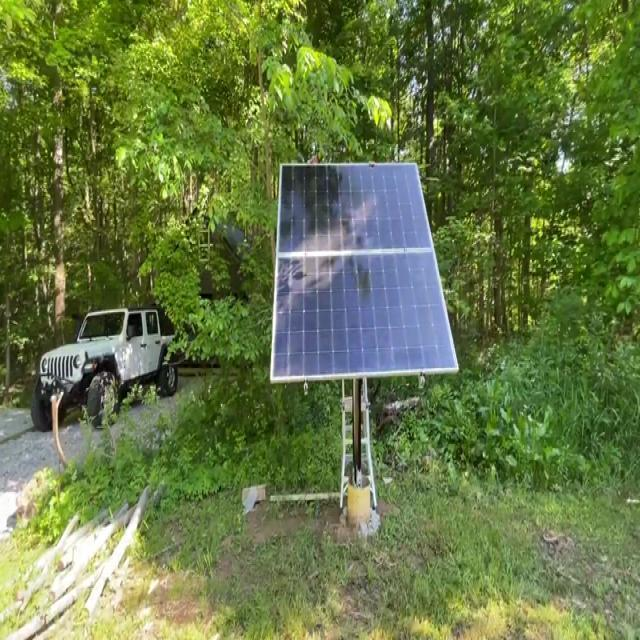Normal Solar Panel: (271, 164, 459, 383)
